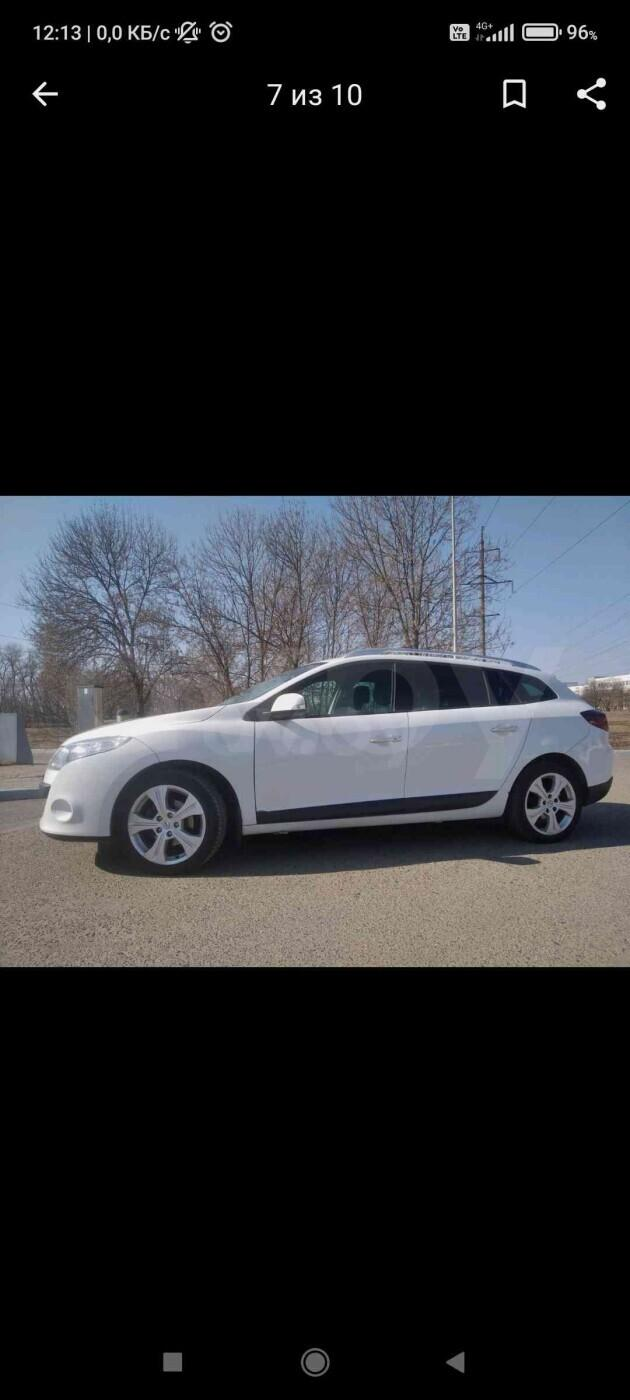Megane_2008-2014: (34, 644, 618, 872)
